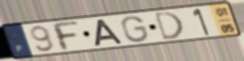1: (192, 7, 212, 37)
9: (29, 24, 57, 53)
A: (94, 18, 126, 48)
D: (153, 10, 186, 42)
F: (49, 20, 82, 52)
G: (120, 15, 150, 43)
